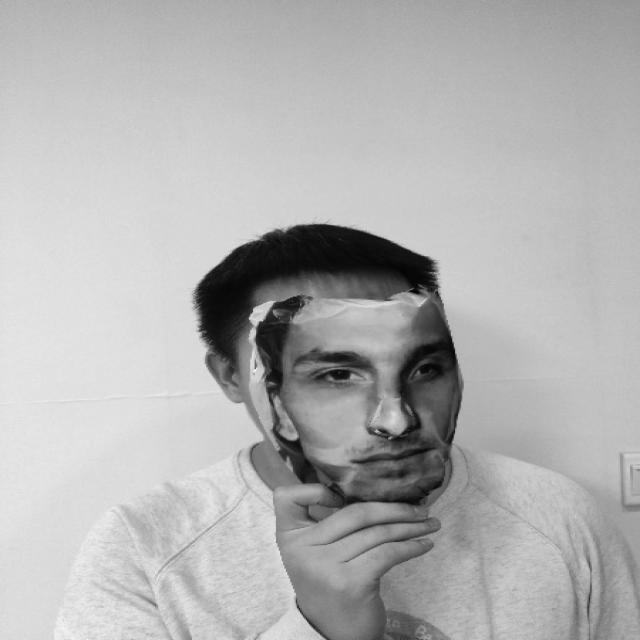fake: (179, 216, 483, 512)
